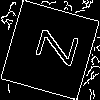Z: (25, 24, 79, 67)
